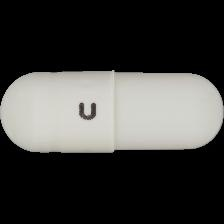53808-1016: (0, 0, 224, 224)
